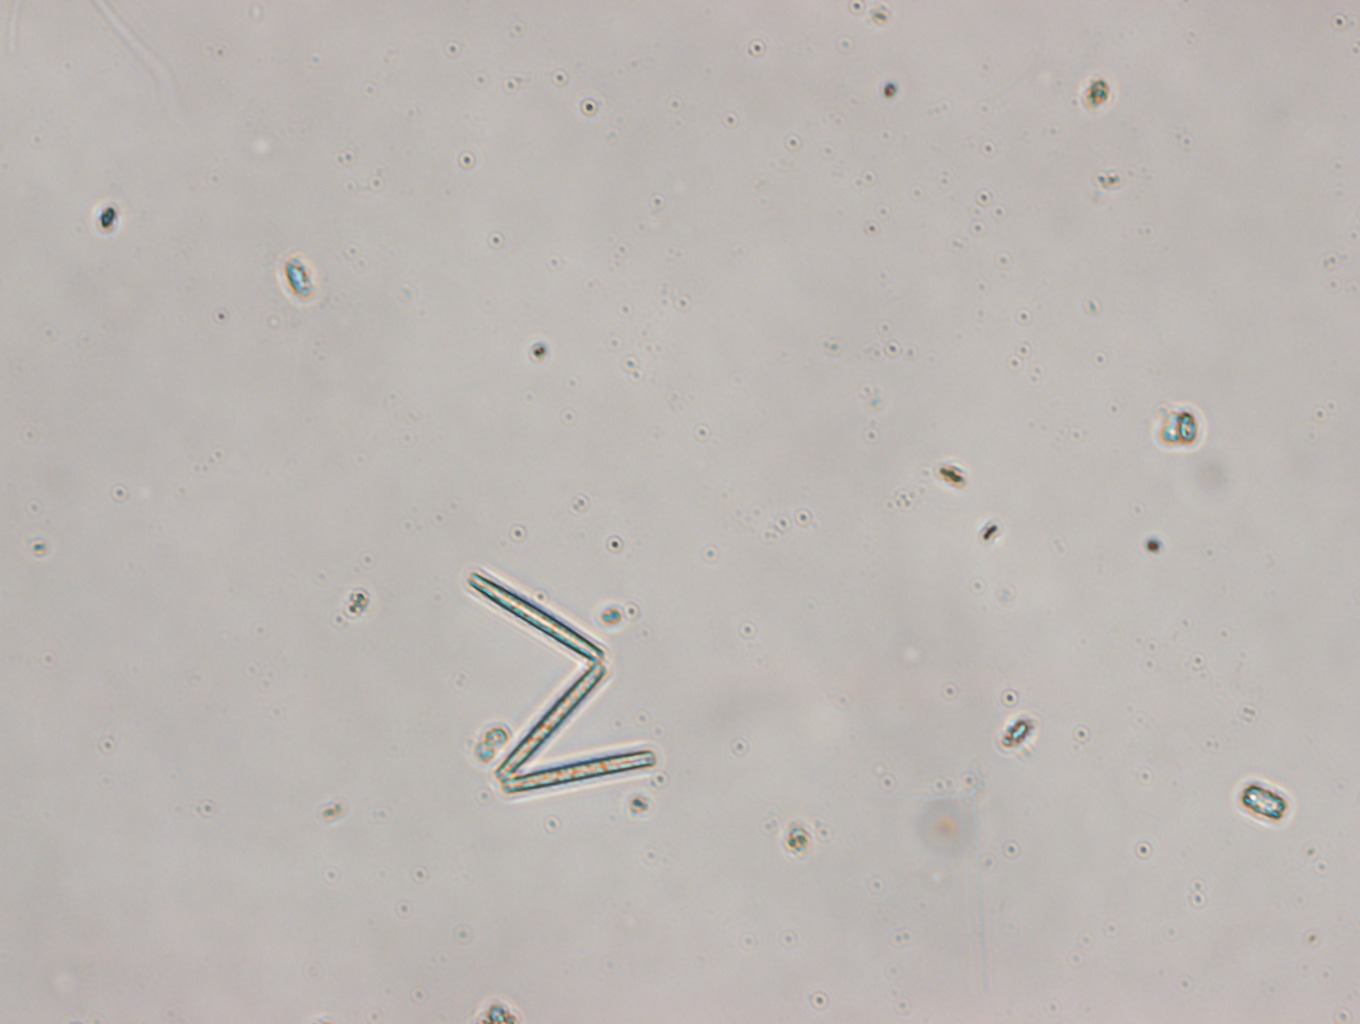thalassionema nitzschioides: (461, 567, 659, 796)
